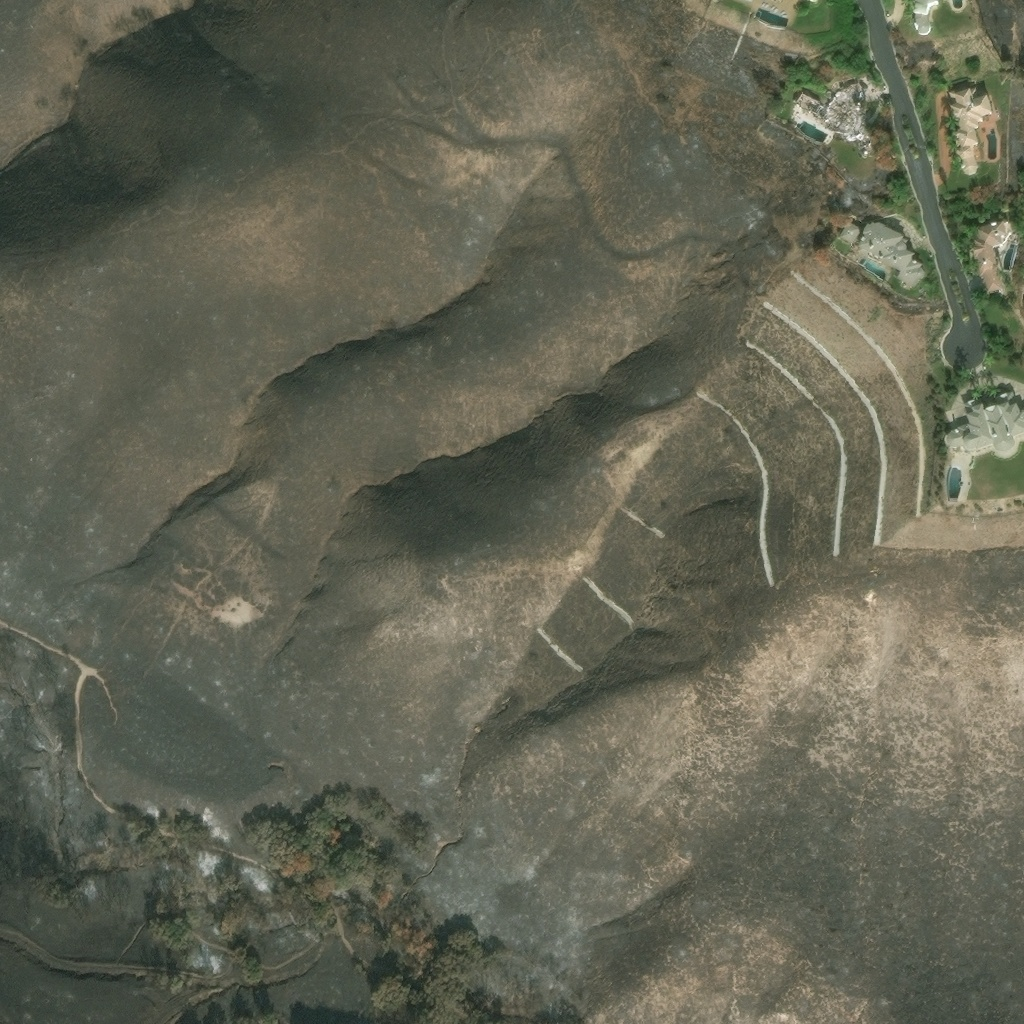0 no-damage: (945, 385, 1023, 450), (855, 218, 927, 286), (947, 84, 992, 173), (969, 218, 1011, 292), (912, 0, 937, 33), (838, 219, 861, 242)
3 destroyed: (817, 79, 863, 137), (792, 88, 822, 112)
